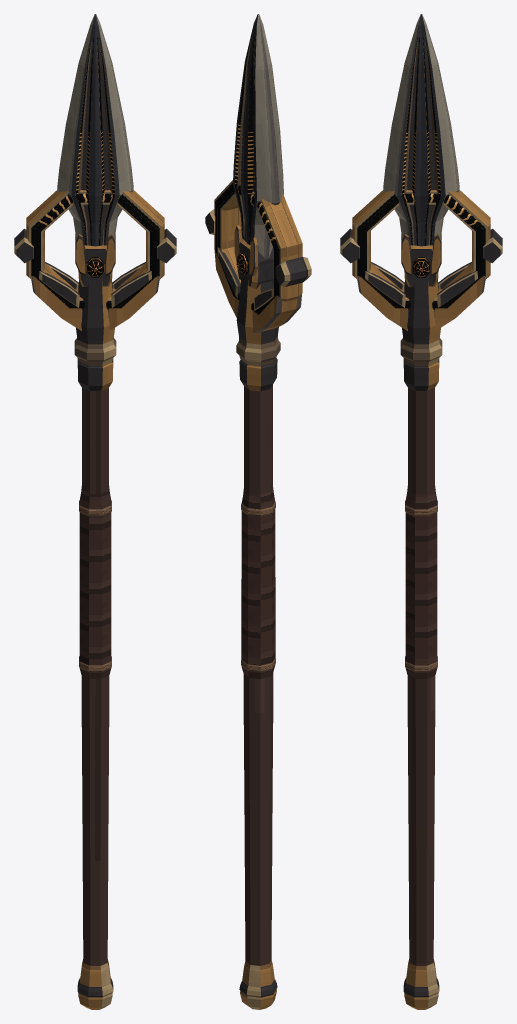
Rendered from jindan_jinwu_spear_forged.obj.
3 renders of one model, left to right at view 1: azimuth 90°, elevation 25°; view 2: azimuth 210°, elevation 25°; view 3: azimuth 270°, elevation 25°, orthographic.
Parts seen in each view (by area): view 1: geometry; view 2: geometry; view 3: geometry.
Part boxes in pixels (box(x1,y1,x2,y2)): geometry: box(14, 14, 176, 1009); geometry: box(205, 14, 311, 1009); geometry: box(340, 14, 502, 1009).
Size of the model in its own units: 0.1278 by 3 by 0.445.
